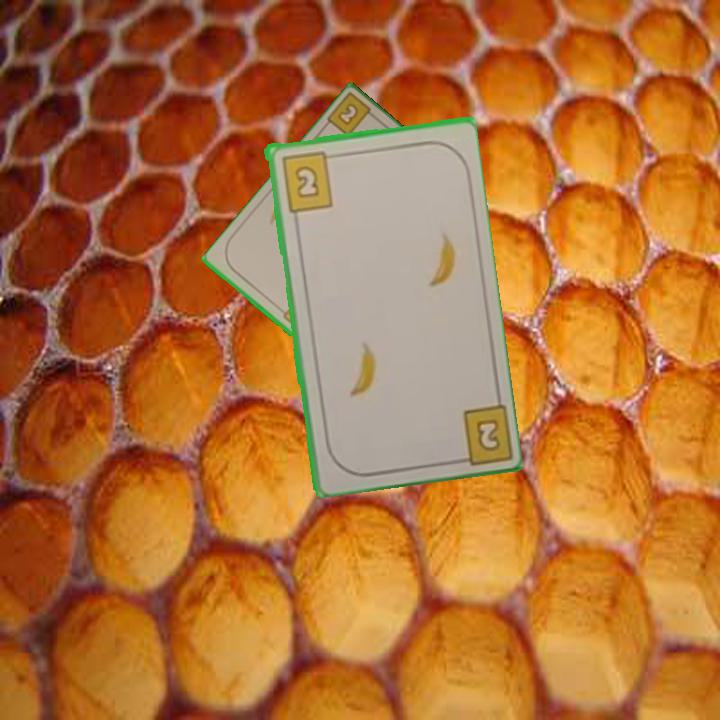2b: (447, 398, 513, 466), (277, 148, 339, 214), (323, 91, 381, 140)
